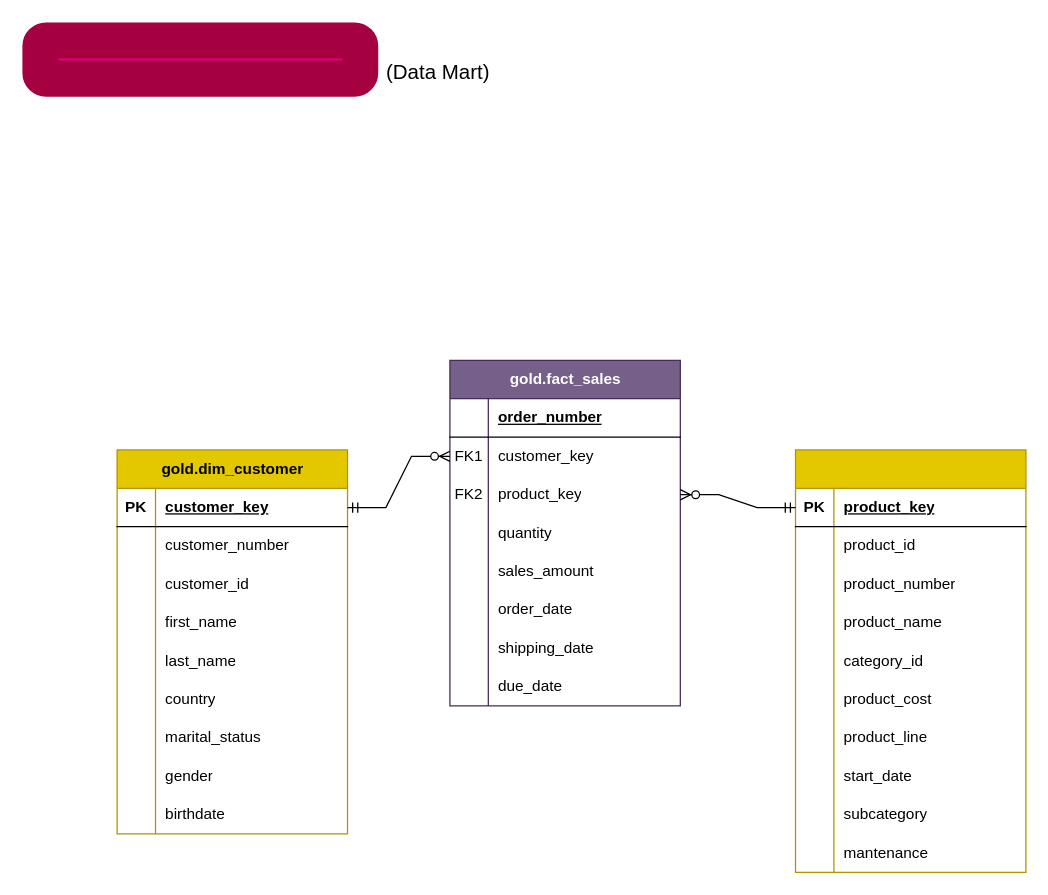
The diagram is 1048 pixels wide and 895 high, and some of its shapes have lost their labels. The shapes that lost their labels are listed below. From the top down, each one's box as (x1, y1, x2, y2) in pixels, then its label:
(22, 22, 378, 96): Sales star schema
(794, 449, 1026, 872): gold.dim_products
